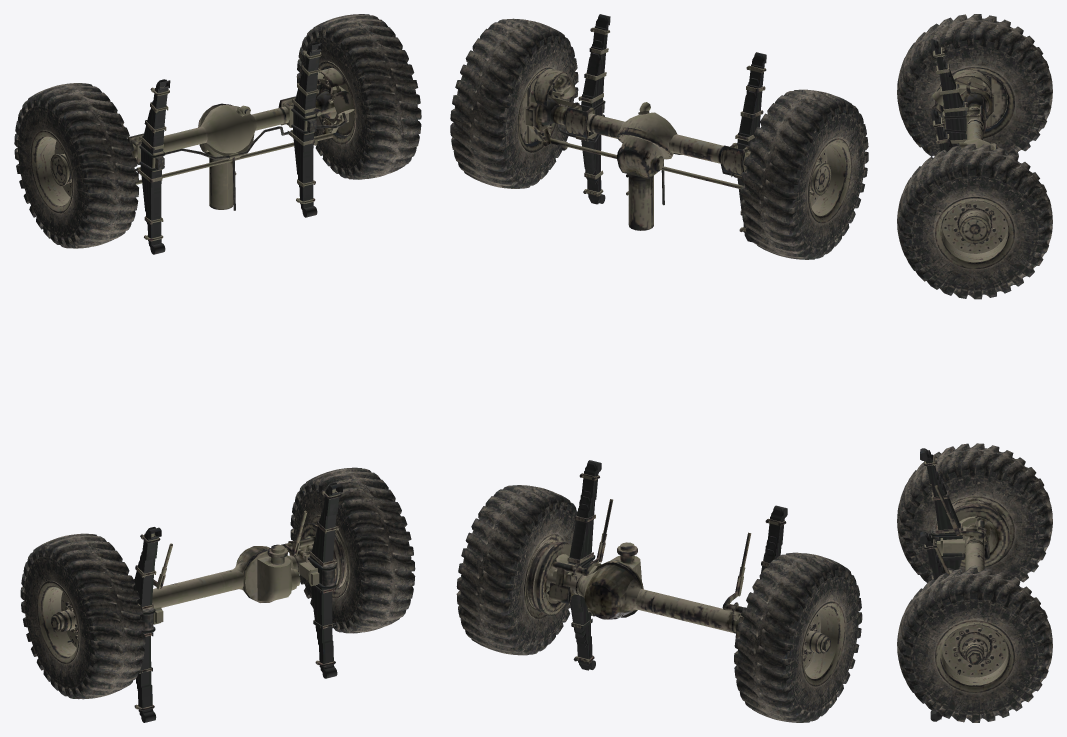
The model's file is Chassis.glb.
3 renders of one model, left to right at view 1: azimuth 30°, elevation 25°; view 2: azimuth 150°, elevation 25°; view 3: azimuth 270°, elevation 25°, orthographic. The views are drawn at different scales.
Visible parts, largest first — view 1: set_3_group_1, set_0_group_1, set_1_group_0, set_2_group_0, set_3_group_0, set_0_group_0; view 2: set_3_group_1, set_0_group_1, set_1_group_0, set_2_group_0, set_3_group_0, set_0_group_0; view 3: set_0_group_1, set_3_group_1, set_2_group_0, set_0_group_0, set_3_group_0, set_1_group_0.
Boxes of the visible parts, bbox=[...] form: set_3_group_1: bbox=[14, 83, 145, 699]; set_0_group_1: bbox=[290, 14, 421, 633]; set_1_group_0: bbox=[135, 42, 354, 678]; set_2_group_0: bbox=[122, 79, 243, 722]; set_3_group_0: bbox=[30, 130, 79, 663]; set_0_group_0: bbox=[310, 61, 356, 597]; set_3_group_1: bbox=[734, 89, 868, 722]; set_0_group_1: bbox=[450, 18, 578, 655]; set_1_group_0: bbox=[519, 14, 742, 670]; set_2_group_0: bbox=[636, 52, 787, 637]; set_3_group_0: bbox=[801, 138, 851, 686]; set_0_group_0: bbox=[517, 67, 564, 618]; set_0_group_1: bbox=[897, 144, 1052, 722]; set_3_group_1: bbox=[897, 14, 1052, 582]; set_2_group_0: bbox=[920, 39, 1009, 571]; set_0_group_0: bbox=[935, 196, 1014, 692]; set_3_group_0: bbox=[934, 66, 1014, 566]; set_1_group_0: bbox=[920, 109, 999, 721].
Size of the model in its own units: 2.69 by 4.91 by 1.15.
Materials: 6 (6 with a texture image).
